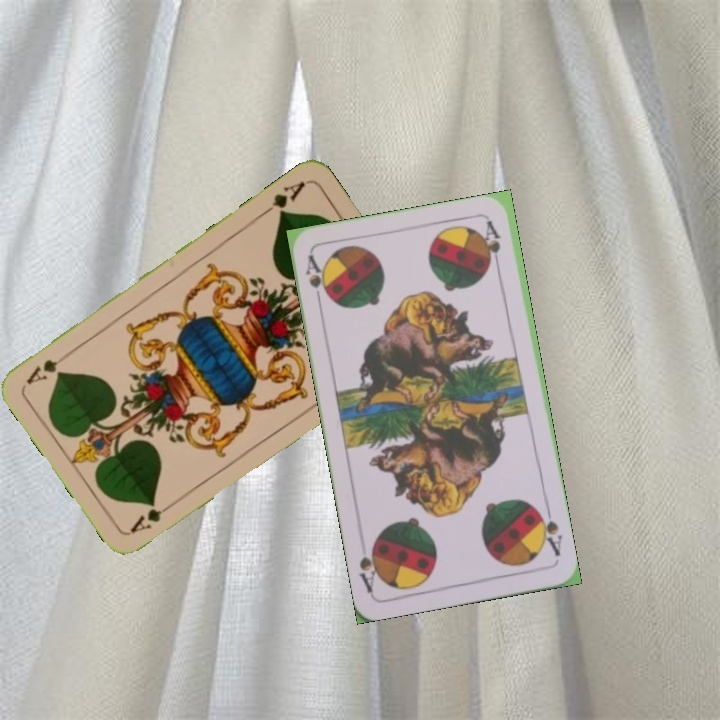GA: (257, 176, 308, 219), (126, 497, 179, 537)
SA: (532, 502, 565, 559), (301, 251, 333, 309)
